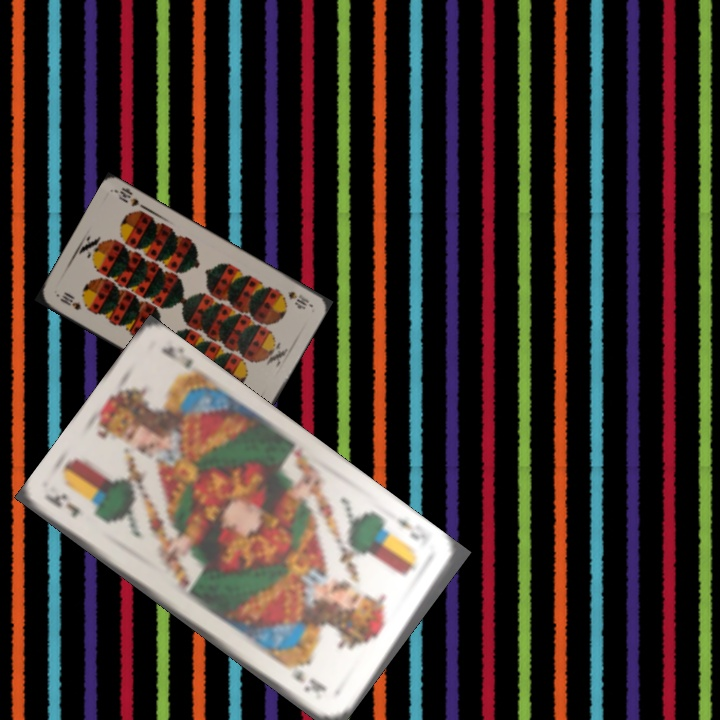EK: (389, 512, 430, 551), (46, 490, 84, 521)
S10: (284, 287, 313, 311), (56, 289, 84, 313)
